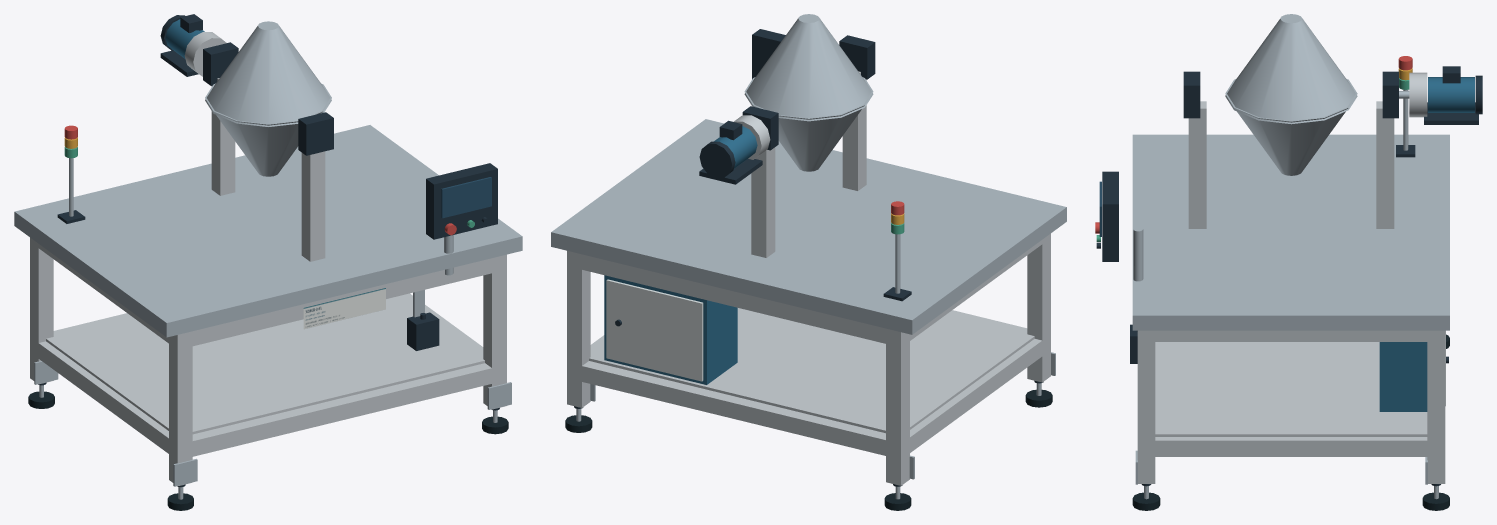
Rendered from double-cone-blender.glb.
3 renders of one model, left to right at view 1: azimuth 30°, elevation 25°; view 2: azimuth 150°, elevation 25°; view 3: azimuth 270°, elevation 25°, orthographic. The views are drawn at different scales.
Visible parts, largest first — view 1: ClosedMachineBed_28, LowerShelf_29, UpperCone_50, SlottedExtrusion_22, SlottedExtrusion_23, SlottedExtrusion_8, SlottedExtrusion_24, LowerCone_51, ConsoleBack_34, SlottedExtrusion_18, SlottedExtrusion_49, SlottedExtrusion_3 (+11 smaller); view 2: ClosedMachineBed_28, LowerShelf_29, UpperCone_50, BackDoor_31, SlottedExtrusion_20, SlottedExtrusion_21, SlottedExtrusion_3, Cabinet_30, SlottedExtrusion_24, SlottedExtrusion_13, LowerCone_51, SlottedExtrusion_8 (+10 smaller); view 3: ClosedMachineBed_28, LowerShelf_29, UpperCone_50, SlottedExtrusion_26, LowerCone_51, SlottedExtrusion_27, Cabinet_30, SlottedExtrusion_13, SlottedExtrusion_18, SlottedExtrusion_48, SlottedExtrusion_49, MotorBody_55 (+6 smaller).
Part boxes in pixels (bbox=[...]): ClosedMachineBed_28: bbox=[14, 125, 522, 337]; LowerShelf_29: bbox=[46, 294, 484, 434]; UpperCone_50: bbox=[205, 21, 331, 126]; SlottedExtrusion_22: bbox=[185, 363, 491, 456]; SlottedExtrusion_23: bbox=[185, 258, 491, 347]; SlottedExtrusion_8: bbox=[169, 331, 192, 486]; SlottedExtrusion_24: bbox=[34, 341, 173, 453]; LowerCone_51: bbox=[205, 83, 331, 176]; ConsoleBack_34: bbox=[426, 163, 497, 239]; SlottedExtrusion_18: bbox=[483, 254, 506, 409]; SlottedExtrusion_49: bbox=[301, 151, 325, 261]; SlottedExtrusion_3: bbox=[30, 237, 53, 384]; ClosedMachineBed_28: bbox=[551, 119, 1066, 334]; LowerShelf_29: bbox=[589, 308, 1034, 433]; UpperCone_50: bbox=[744, 14, 873, 121]; BackDoor_31: bbox=[606, 279, 703, 381]; SlottedExtrusion_20: bbox=[574, 361, 893, 457]; SlottedExtrusion_21: bbox=[574, 252, 892, 343]; SlottedExtrusion_3: bbox=[886, 328, 909, 485]; Cabinet_30: bbox=[604, 275, 737, 384]; SlottedExtrusion_24: bbox=[910, 337, 1046, 452]; SlottedExtrusion_13: bbox=[567, 251, 590, 407]; LowerCone_51: bbox=[744, 77, 873, 171]; SlottedExtrusion_8: bbox=[1027, 233, 1050, 382]; ClosedMachineBed_28: bbox=[1132, 134, 1449, 330]; LowerShelf_29: bbox=[1155, 342, 1427, 436]; UpperCone_50: bbox=[1225, 14, 1357, 124]; SlottedExtrusion_26: bbox=[1146, 437, 1436, 456]; LowerCone_51: bbox=[1225, 78, 1357, 175]; SlottedExtrusion_27: bbox=[1146, 330, 1436, 341]; Cabinet_30: bbox=[1379, 342, 1427, 411]; SlottedExtrusion_13: bbox=[1427, 330, 1445, 483]; SlottedExtrusion_18: bbox=[1137, 330, 1155, 483]; SlottedExtrusion_48: bbox=[1376, 101, 1394, 228]; SlottedExtrusion_49: bbox=[1188, 101, 1206, 228]; MotorBody_55: bbox=[1428, 77, 1474, 112].
Size of the model in its own units: 1.55 by 1.63 by 1.4.
Materials: 11 (1 with a texture image).
